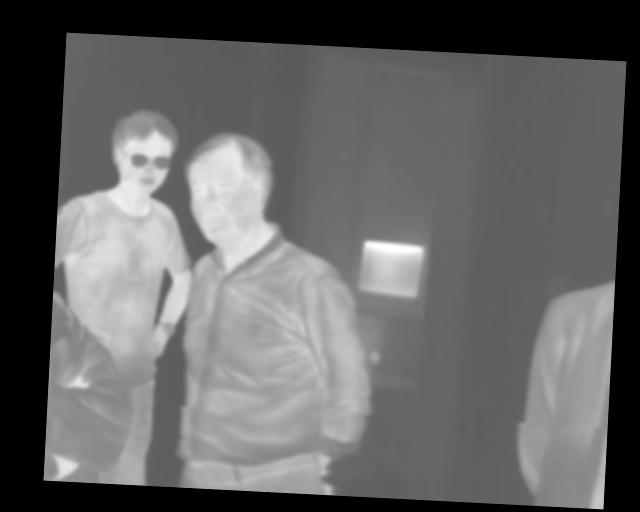face: (181, 130, 276, 250), (108, 106, 179, 196)
